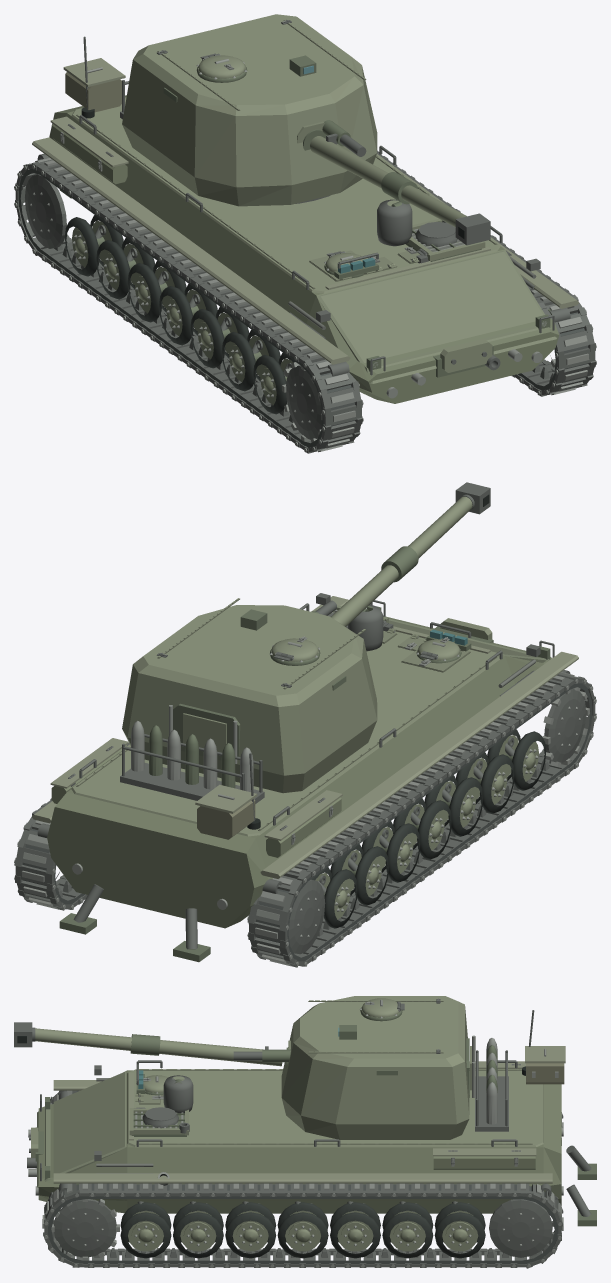
The model's file is spheres-ground-artillery.glb.
3 renders of one model, top to bottom at view 1: azimuth 30°, elevation 25°; view 2: azimuth 150°, elevation 25°; view 3: azimuth 270°, elevation 25°, orthographic. The views are drawn at different scales.
Visible parts, largest first — view 1: Spheres self-propelled artillery; view 2: Spheres self-propelled artillery; view 3: Spheres self-propelled artillery.
Boxes of the visible parts, left/top/right/bottom form: Spheres self-propelled artillery: left=14, top=14, right=596, bottom=453; Spheres self-propelled artillery: left=14, top=482, right=596, bottom=967; Spheres self-propelled artillery: left=14, top=996, right=596, bottom=1268.
Bounding box in the file's own units: 3.55 × 2.94 × 7.88.
